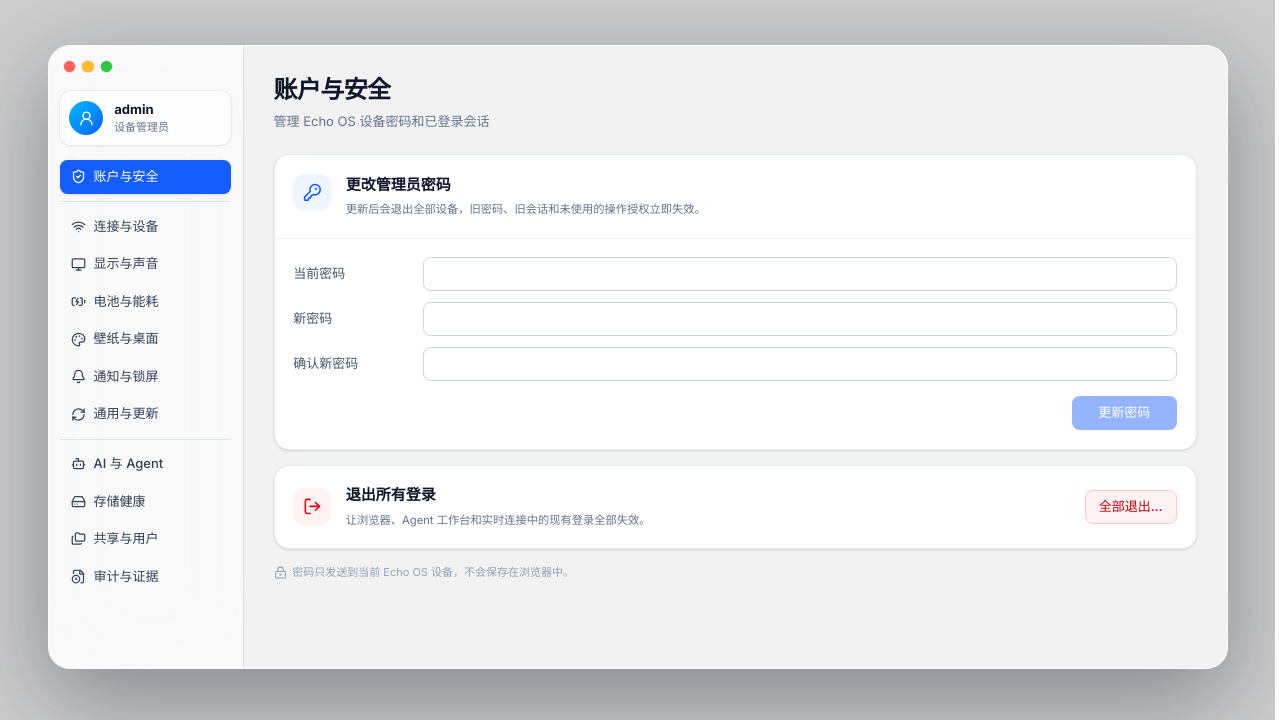
Test case: Echo OS account security settings › opens the OMV-backed sharing and user overview
Click the button "共享与用户" at (146, 539), box 60,522 -> 231,556
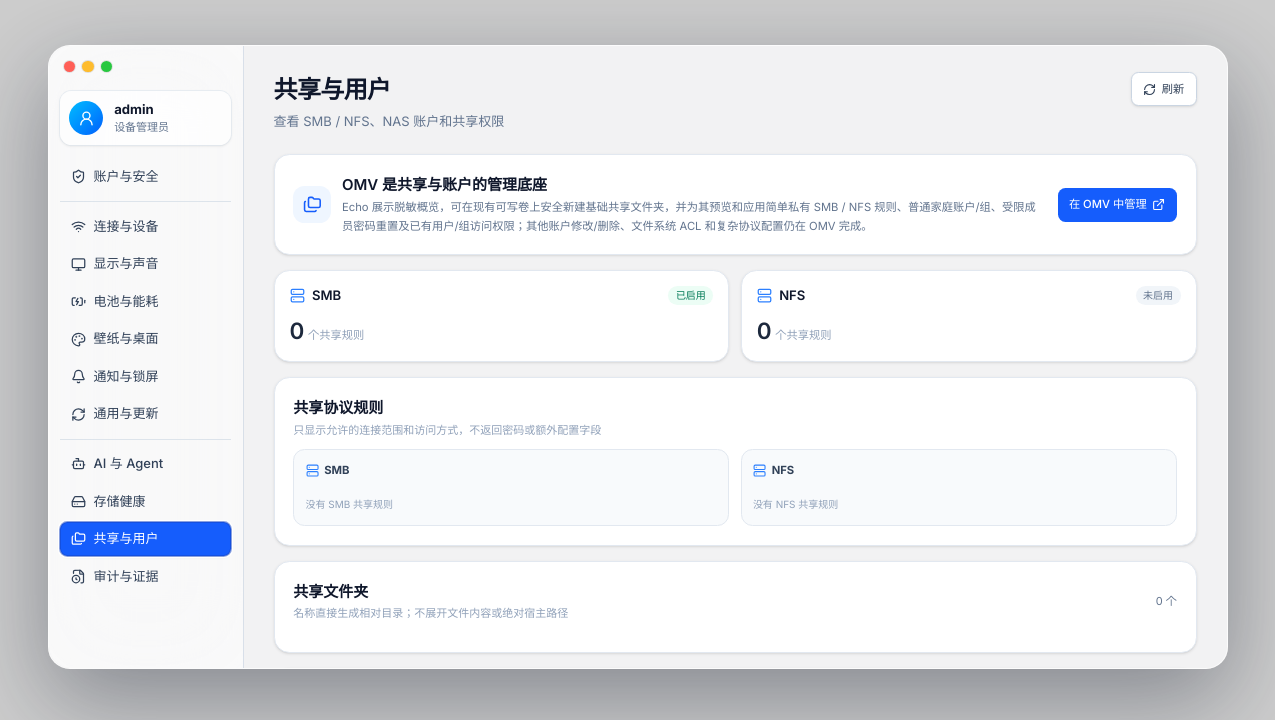
Now the heading "共享与用户" is shown, box 274,75 -> 390,104
